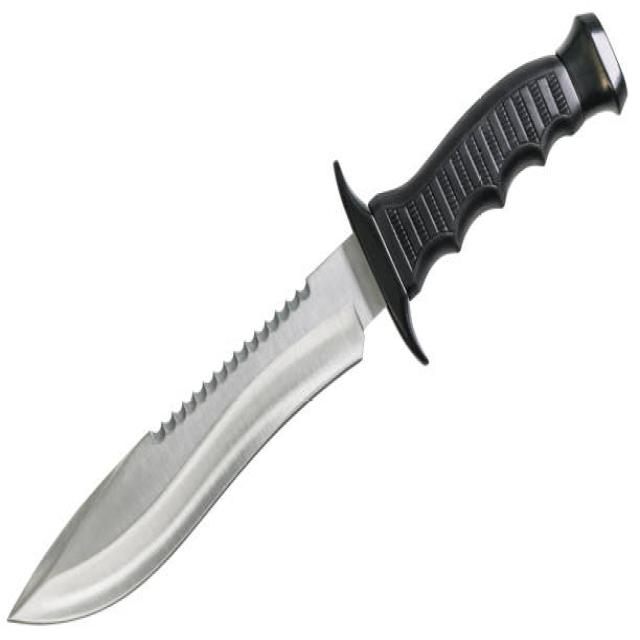knife: (4, 4, 637, 630)
